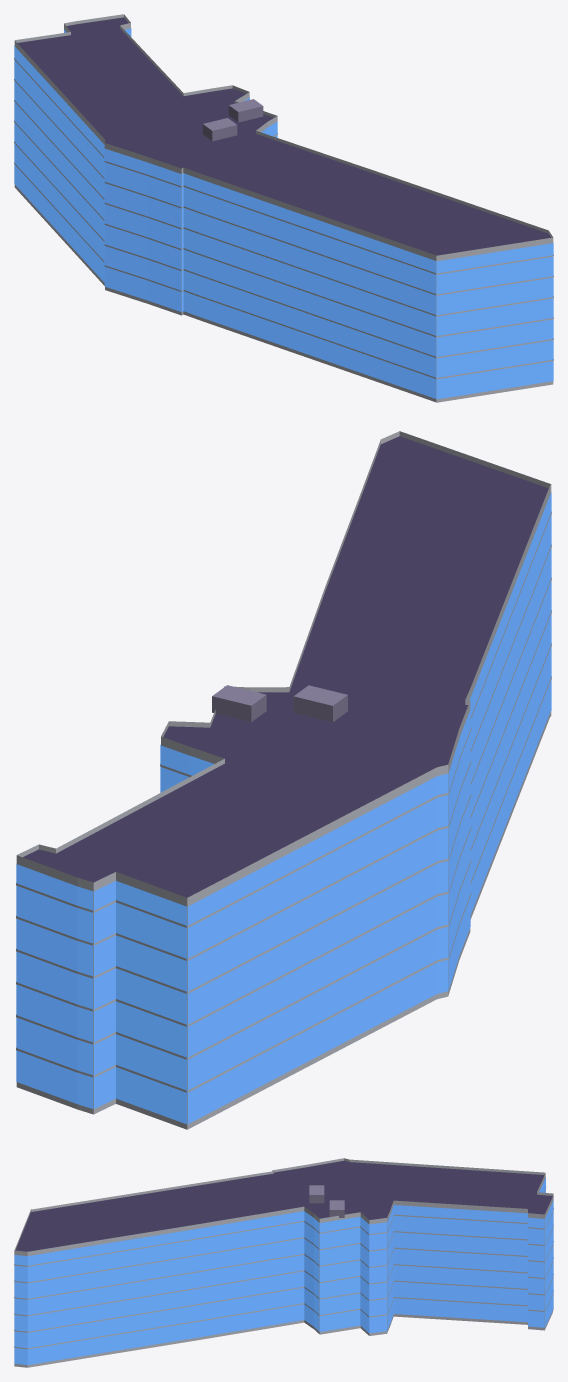
3 renders of one model, top to bottom at view 1: azimuth 30°, elevation 25°; view 2: azimuth 150°, elevation 25°; view 3: azimuth 270°, elevation 25°, orthographic. The views are drawn at different scales.
Visible parts, largest first — view 1: campus/b-102-0; view 2: campus/b-102-0; view 3: campus/b-102-0.
Part boxes in pixels (x1,y1,x2,y2): campus/b-102-0: [14, 14, 553, 402]; campus/b-102-0: [16, 431, 551, 1129]; campus/b-102-0: [14, 1158, 553, 1367].
Bounding box in the file's own units: 44.05 × 26.6 × 107.
